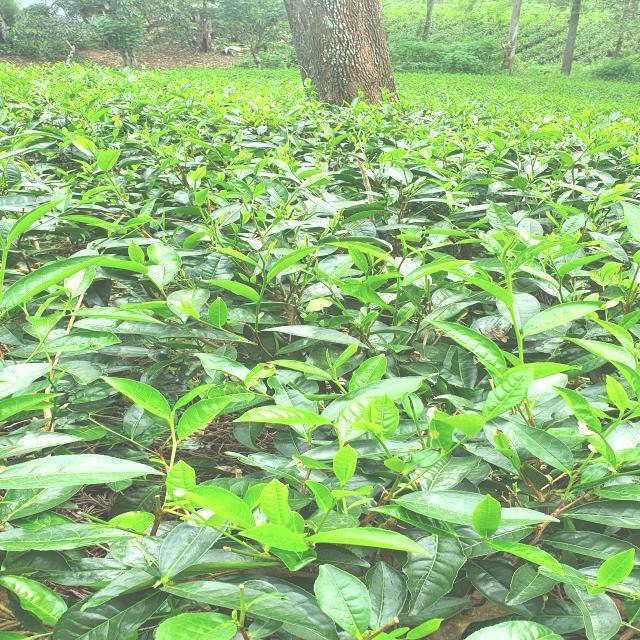Stem: (262, 282, 268, 287), (169, 420, 174, 426), (335, 380, 340, 385), (507, 274, 511, 280), (559, 278, 563, 282)
